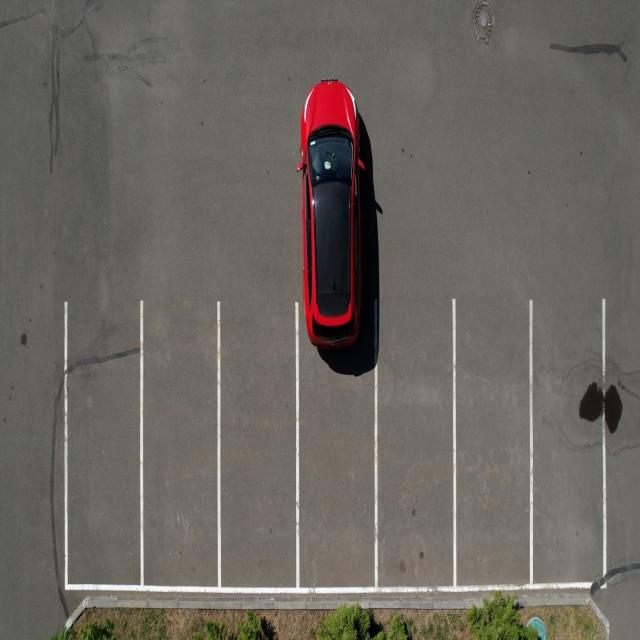space-empty: (450, 298, 534, 588), (216, 302, 300, 590), (374, 298, 458, 585), (138, 300, 222, 586), (296, 298, 378, 589), (528, 293, 608, 586), (63, 305, 144, 588), (1, 302, 68, 598)
